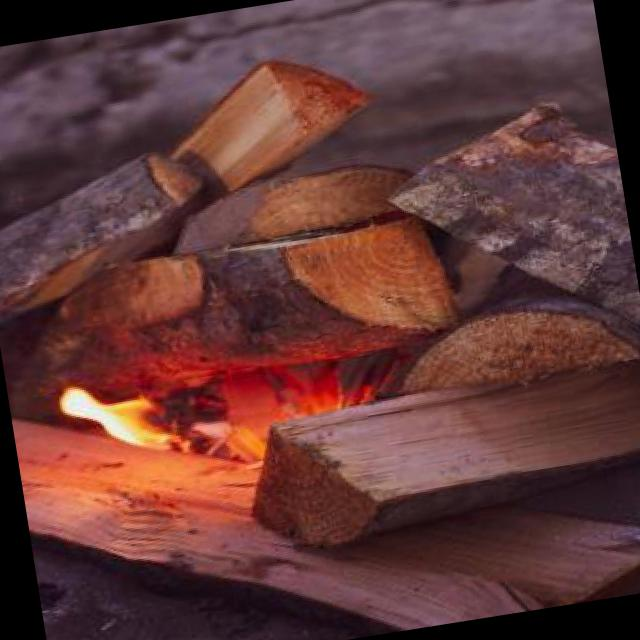Fire: (21, 344, 226, 486)
